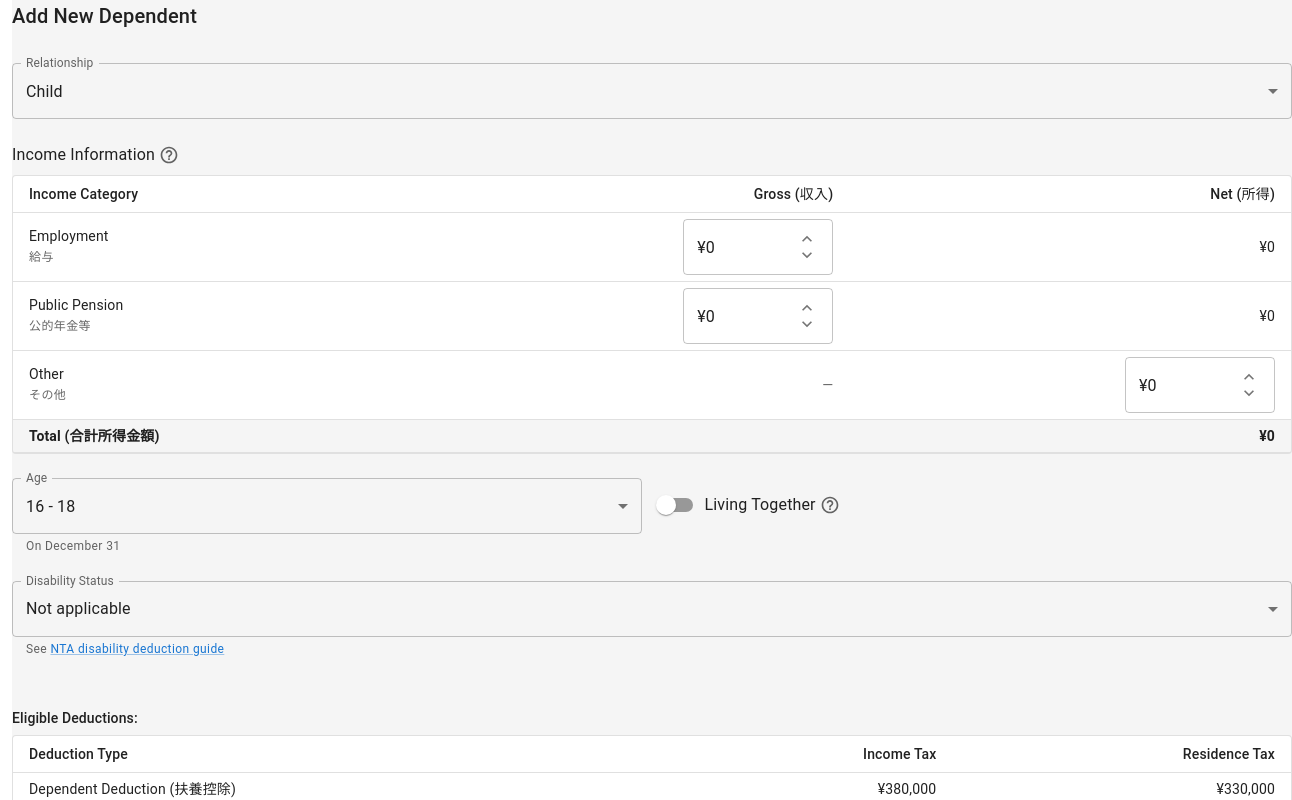
Test: DependentForm public pension income › offers the age categories split at 65
Click the dropdown named "Age" at (51, 506), box [26,496,75,516]
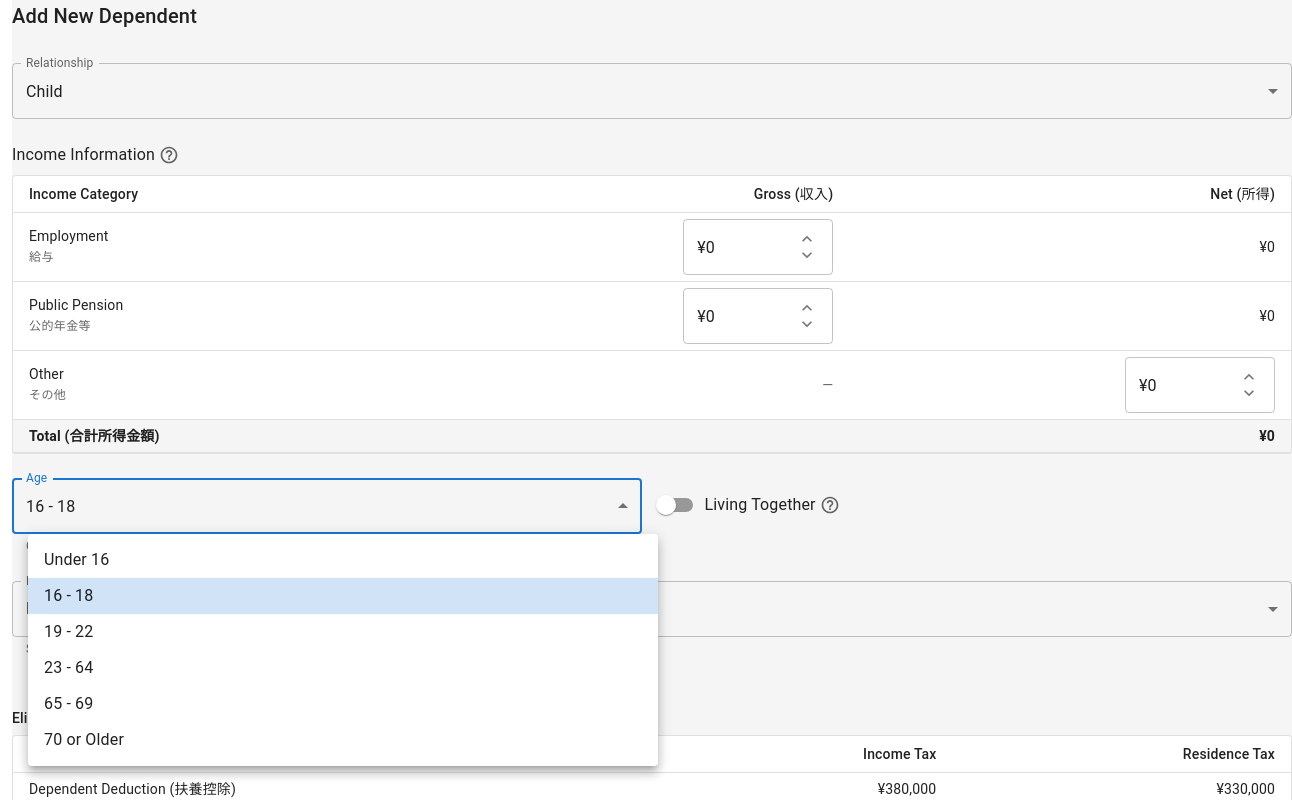
Now the option "23 - 64" is shown, box [44,658,93,677]
Now the option "65 - 69" is shown, box [44,694,93,713]
